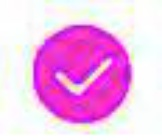CheckBox: (1, 1, 161, 139)
